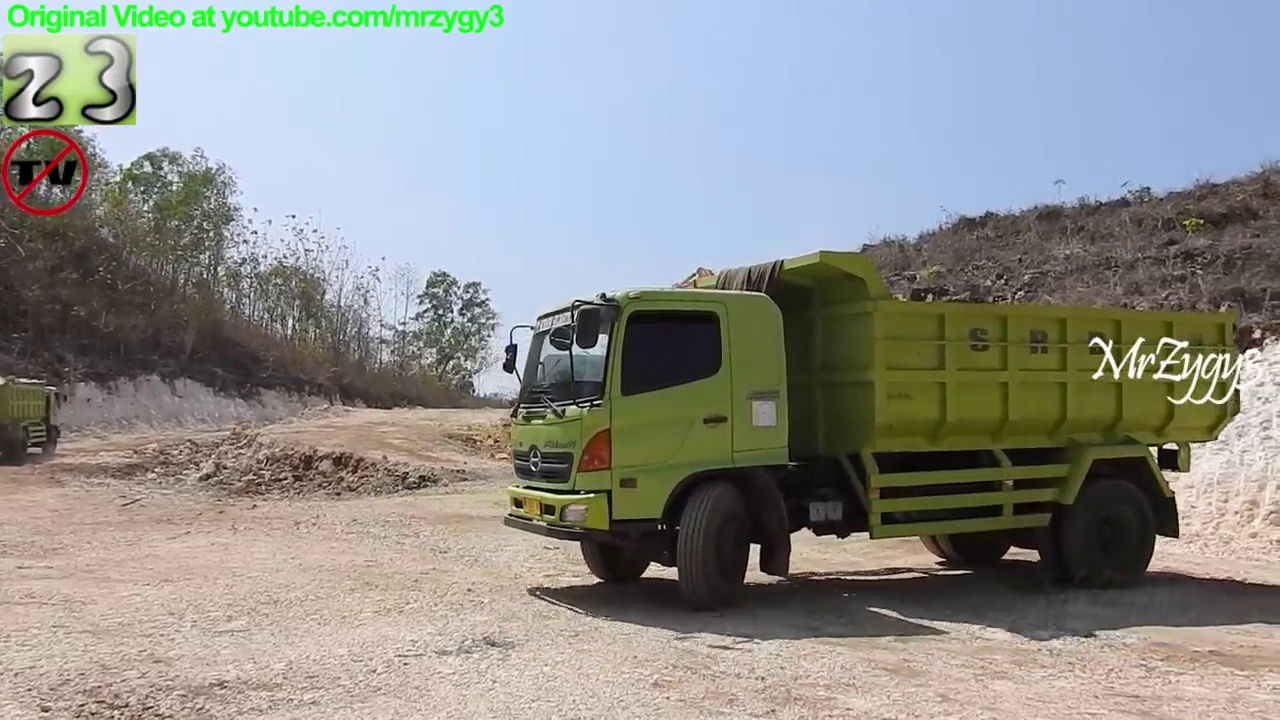excavator: (644, 261, 758, 393)
truck: (495, 243, 1247, 617), (1, 370, 71, 468)
